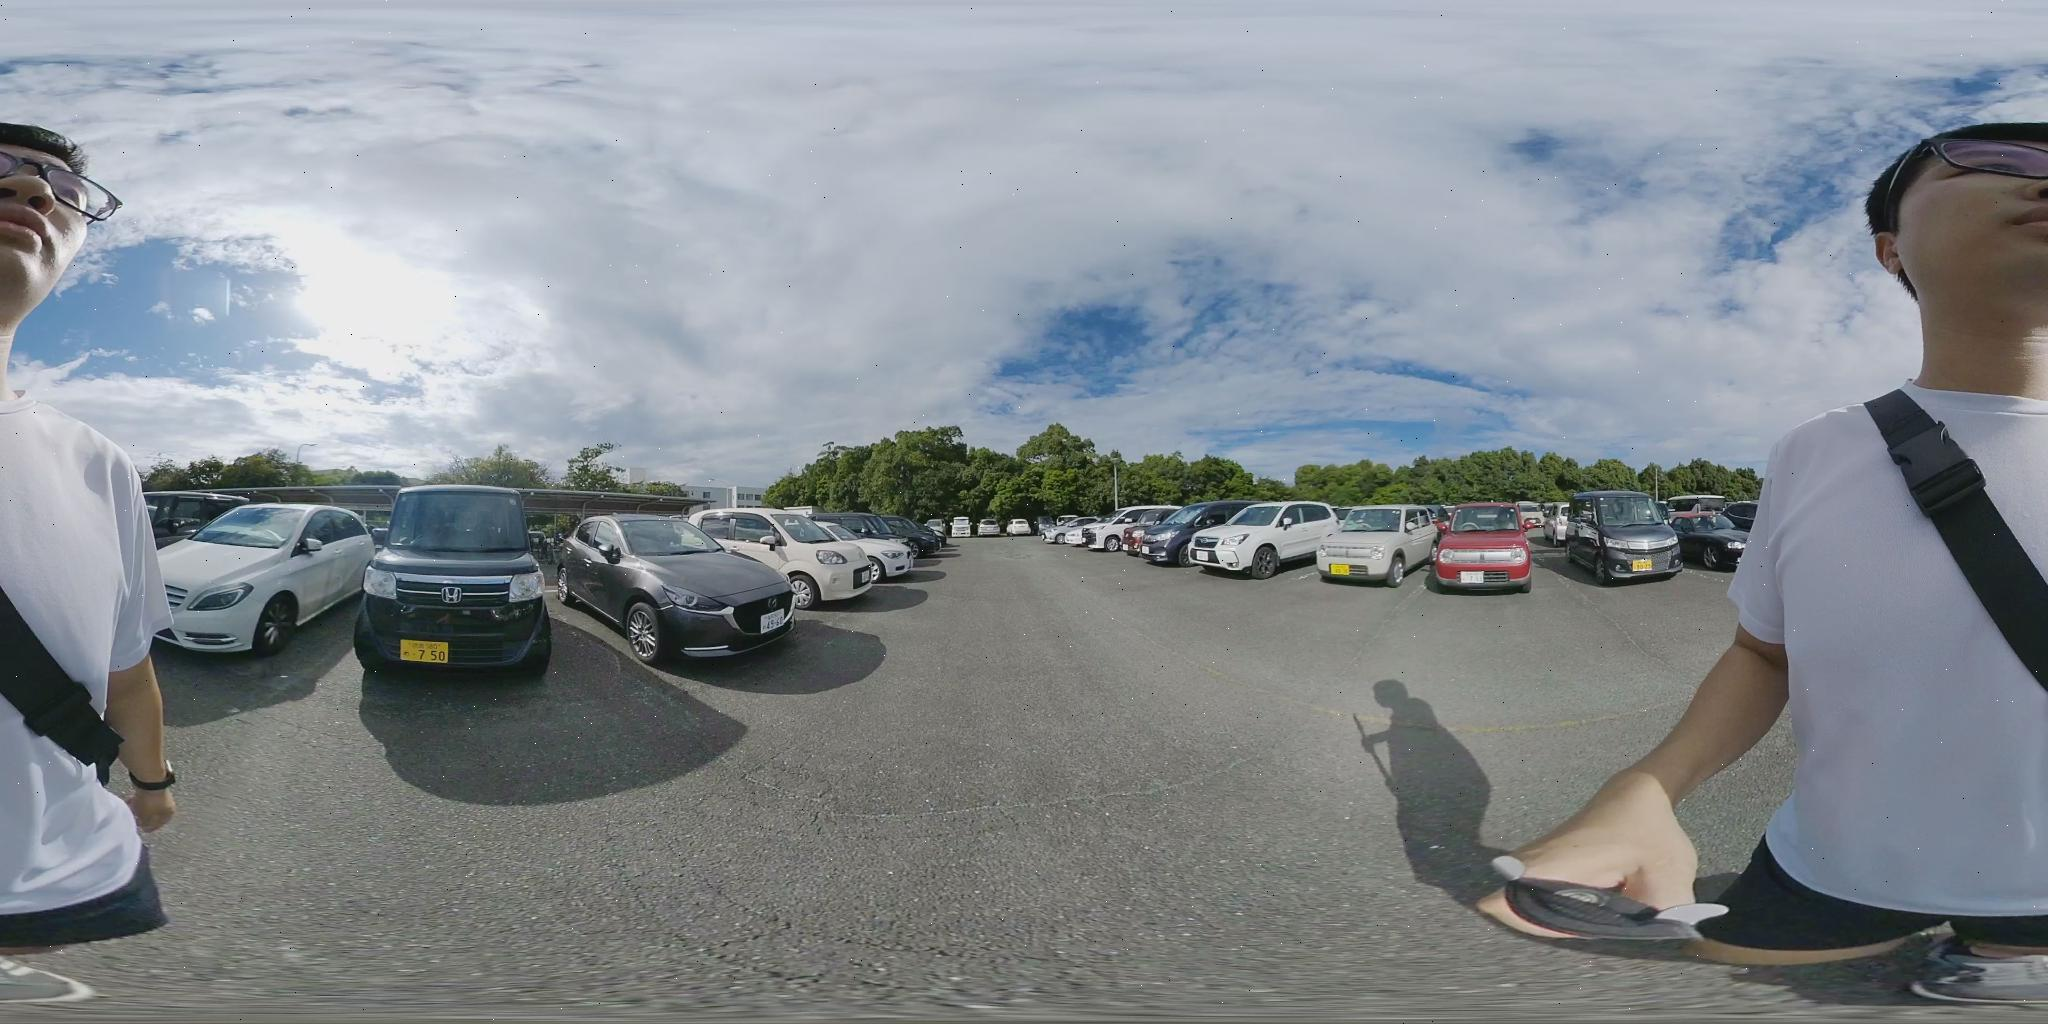car: (537, 515, 807, 666), (358, 486, 560, 671), (153, 504, 377, 658), (694, 512, 906, 602), (1160, 500, 1351, 580), (1320, 507, 1450, 588), (1567, 492, 1678, 584), (1426, 503, 1533, 593), (1128, 502, 1267, 562), (820, 512, 953, 560), (145, 490, 255, 546), (1674, 500, 1755, 569), (1095, 508, 1183, 555)
